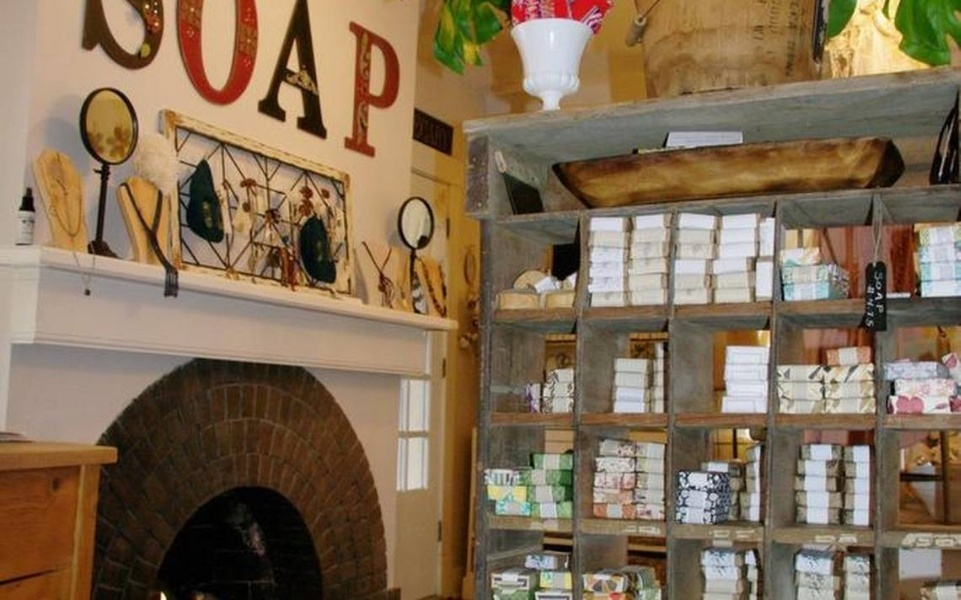text: (289, 1, 304, 166), (305, 1, 320, 166), (321, 1, 336, 166), (337, 1, 352, 166), (353, 1, 368, 166), (369, 1, 384, 166), (385, 1, 400, 166), (401, 1, 416, 166), (97, 1, 112, 111), (113, 1, 128, 111), (129, 1, 144, 111), (145, 1, 160, 111), (161, 1, 176, 111), (177, 1, 192, 111), (193, 1, 208, 111), (209, 1, 224, 111), (225, 1, 240, 111), (241, 1, 256, 111), (82, 1, 96, 111), (257, 1, 269, 111), (789, 1, 800, 78), (866, 284, 880, 327), (417, 113, 432, 151), (433, 113, 448, 151), (873, 270, 880, 315), (881, 270, 886, 315), (417, 1, 418, 166), (801, 1, 802, 78), (414, 113, 416, 151), (449, 113, 451, 151)
